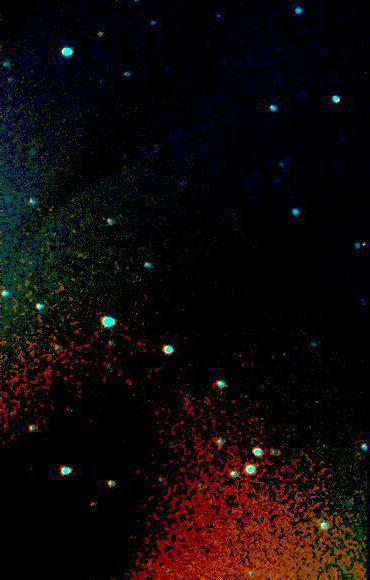star: (86, 20, 116, 50)
